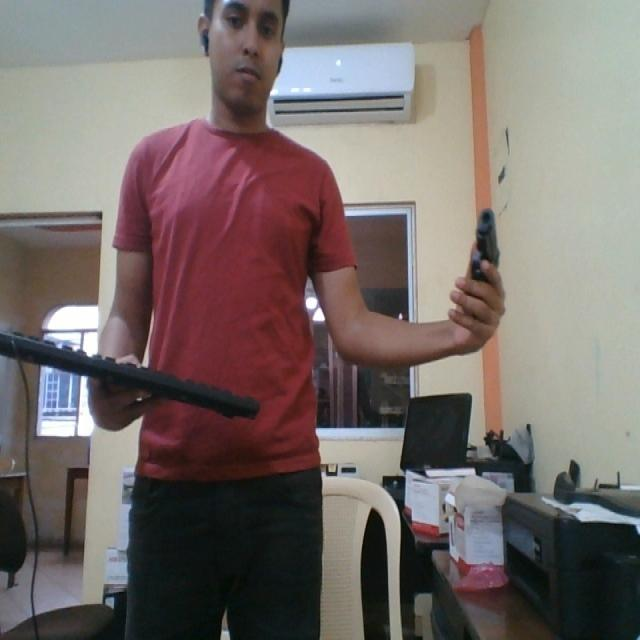weapon: (462, 207, 507, 286)
